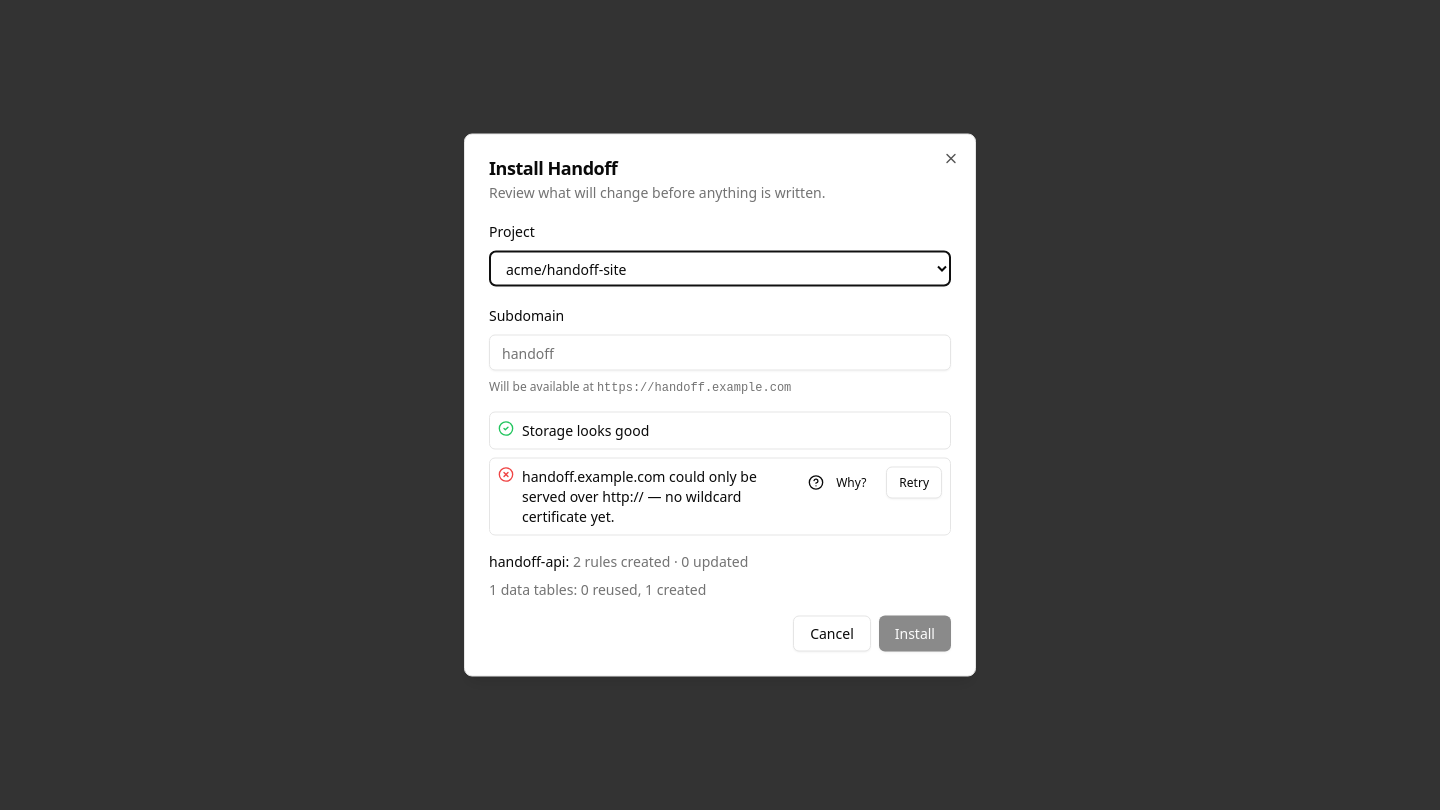
Test: InstallDialog — Review screen › blocks Install when the app host could only be served over http://
Expected: the text "could only be served over http:// — no wildcard certificate yet." is shown, [522, 466, 757, 526]
Expected: the button "Install" is disabled, [879, 616, 951, 652]
Click the button "Why?" at (837, 482), box [796, 466, 878, 498]
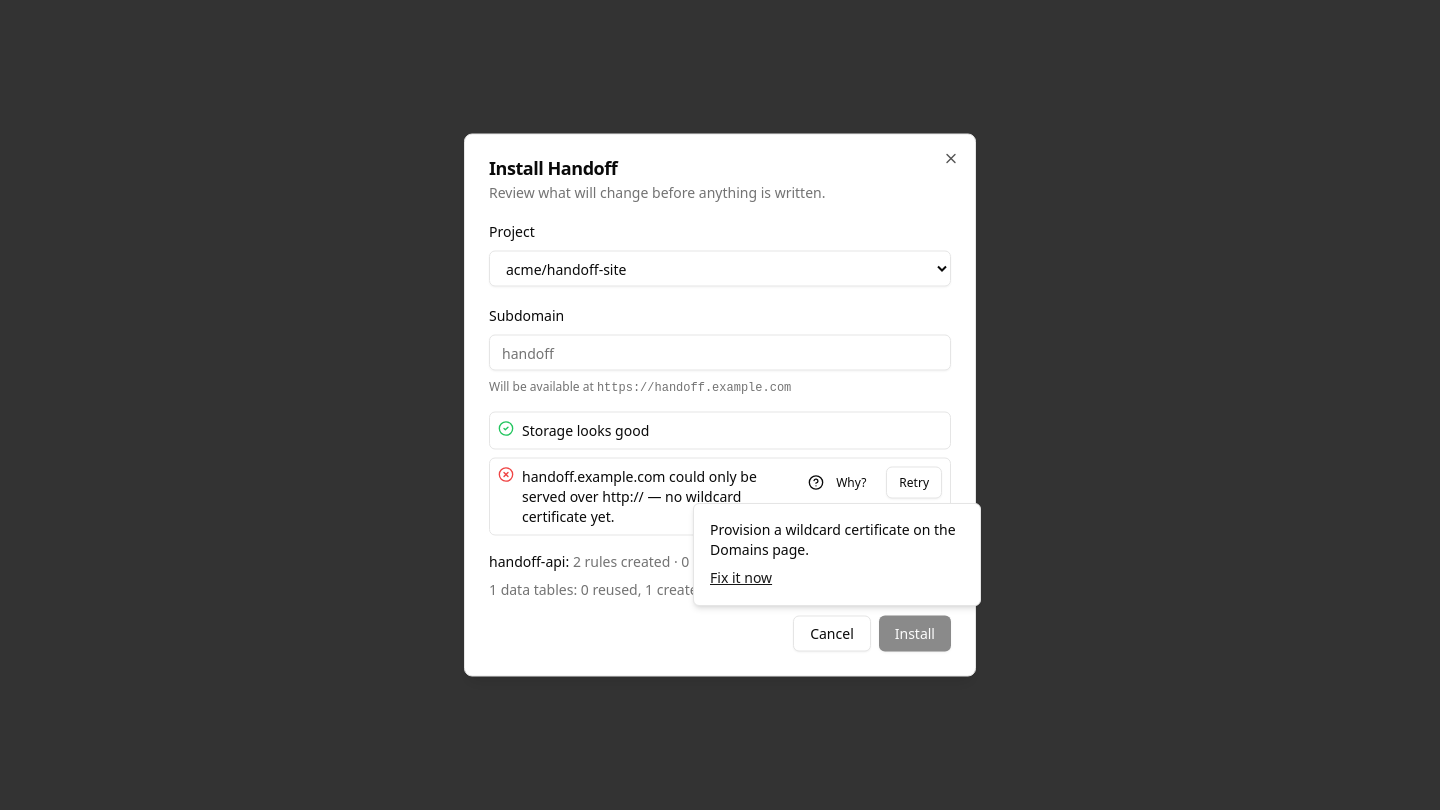
Result: the text "Provision a wildcard certificate on the Domains page." is shown at [710, 520, 964, 560]
